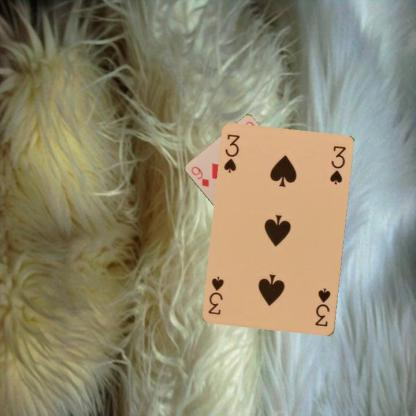3s: (221, 132, 242, 174), (313, 286, 332, 328)
9d: (188, 164, 210, 188)
